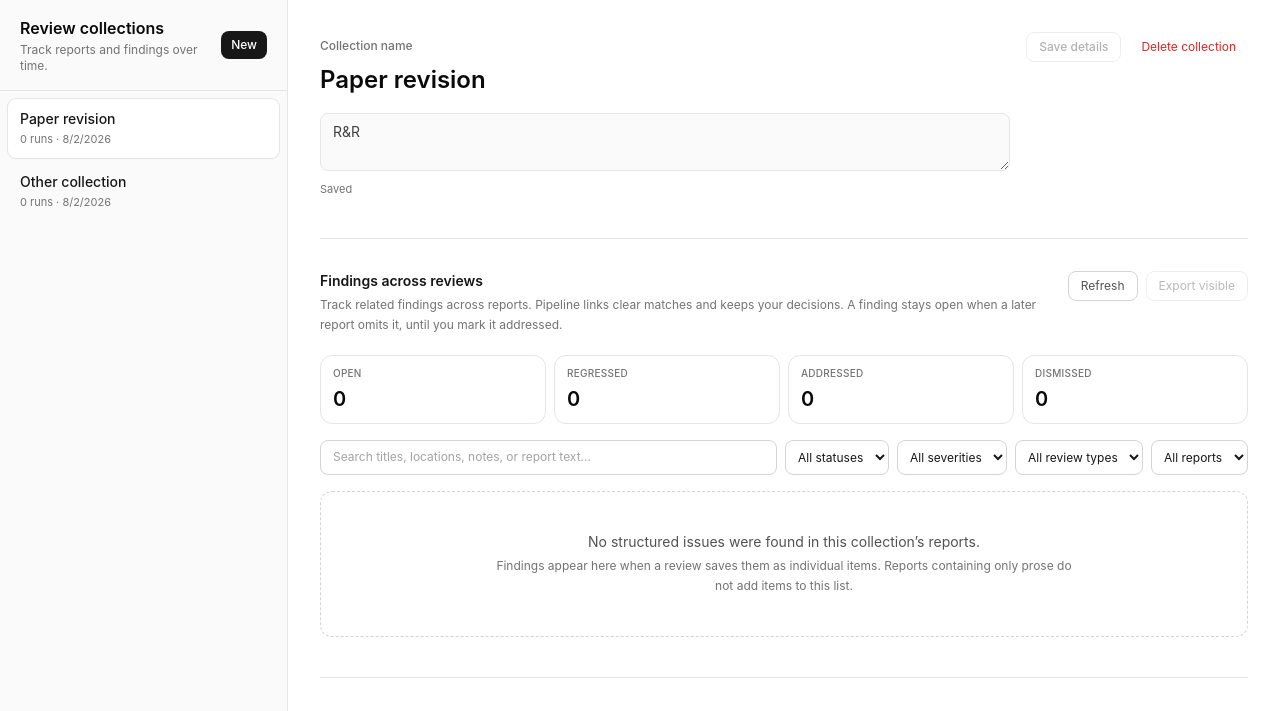
ProjectsPage › with two collections › starts another collection at the top
Check: the field showing "Paper revision" is shown, box x1=320 y1=60 x2=1010 y2=101
Step 1. Click the button "Other collection 0 runs · 8/2/2026" → [73, 181], box x1=8 y1=162 x2=279 y2=220
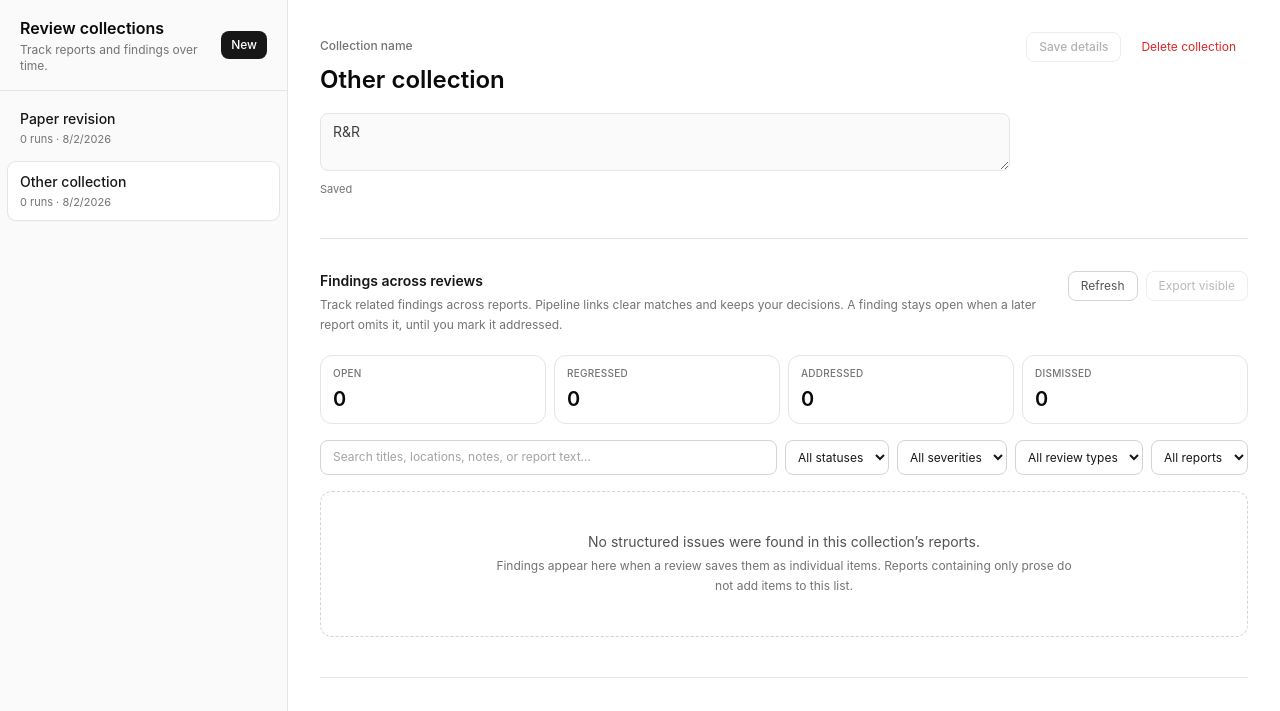
Check: the field showing "Other collection" is shown, box x1=320 y1=60 x2=1010 y2=101
